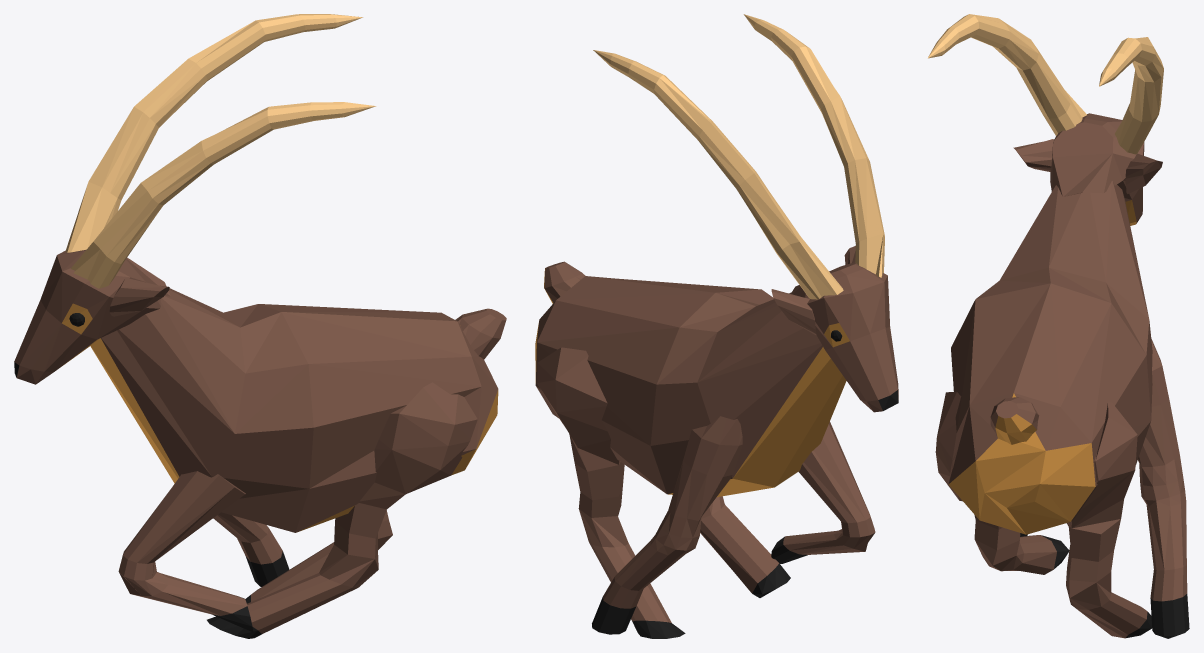
Rendered from ibex-real.glb.
The picture shows the model from 3 angles, left to right: view 1: azimuth 30°, elevation 25°; view 2: azimuth 150°, elevation 25°; view 3: azimuth 270°, elevation 25°; orthographic projection. The views are drawn at different scales.
Parts seen in each view (by area): view 1: group252078229, group1311692633, group358685670, group1560505635, group101711848, group1368029776, group1075193223, group1629706652, group1991032926, group194917599; view 2: group252078229, group1629706652, group1075193223, group1368029776, group358685670, group1560505635, group101711848, group1311692633, group1315920759, group1991032926; view 3: group252078229, group1629706652, group1075193223, group1368029776, group1560505635, group1311692633, group358685670, group1991032926, group1315920759, group194917599.
Part boxes in pixels (x1,y1,x2,y2): group252078229: (90, 288, 498, 532); group1311692633: (207, 382, 477, 638); group358685670: (65, 14, 362, 252); group1560505635: (70, 102, 376, 288); group101711848: (118, 471, 253, 632); group1368029776: (14, 250, 170, 384); group1075193223: (213, 512, 289, 586); group1629706652: (245, 510, 392, 603); group1991032926: (455, 308, 506, 359); group194917599: (109, 278, 169, 316); group252078229: (535, 276, 846, 497); group1629706652: (537, 347, 685, 638); group1075193223: (592, 416, 742, 634); group1368029776: (791, 262, 898, 412); group358685670: (593, 50, 843, 299); group1560505635: (743, 14, 884, 277); group101711848: (771, 421, 875, 563); group1311692633: (700, 496, 790, 597); group1315920759: (771, 289, 816, 335); group1991032926: (544, 261, 585, 303); group252078229: (948, 181, 1152, 534); group1629706652: (1066, 402, 1152, 638); group1075193223: (1138, 339, 1189, 638); group1368029776: (1050, 113, 1144, 225); group1560505635: (927, 14, 1086, 135); group1311692633: (935, 391, 1069, 574); group358685670: (1099, 37, 1163, 154); group1991032926: (990, 397, 1039, 444); group1315920759: (1125, 153, 1162, 193); group194917599: (1013, 139, 1053, 171).
Size of the model in its own units: 0.4475 by 0.5962 by 0.2381.
